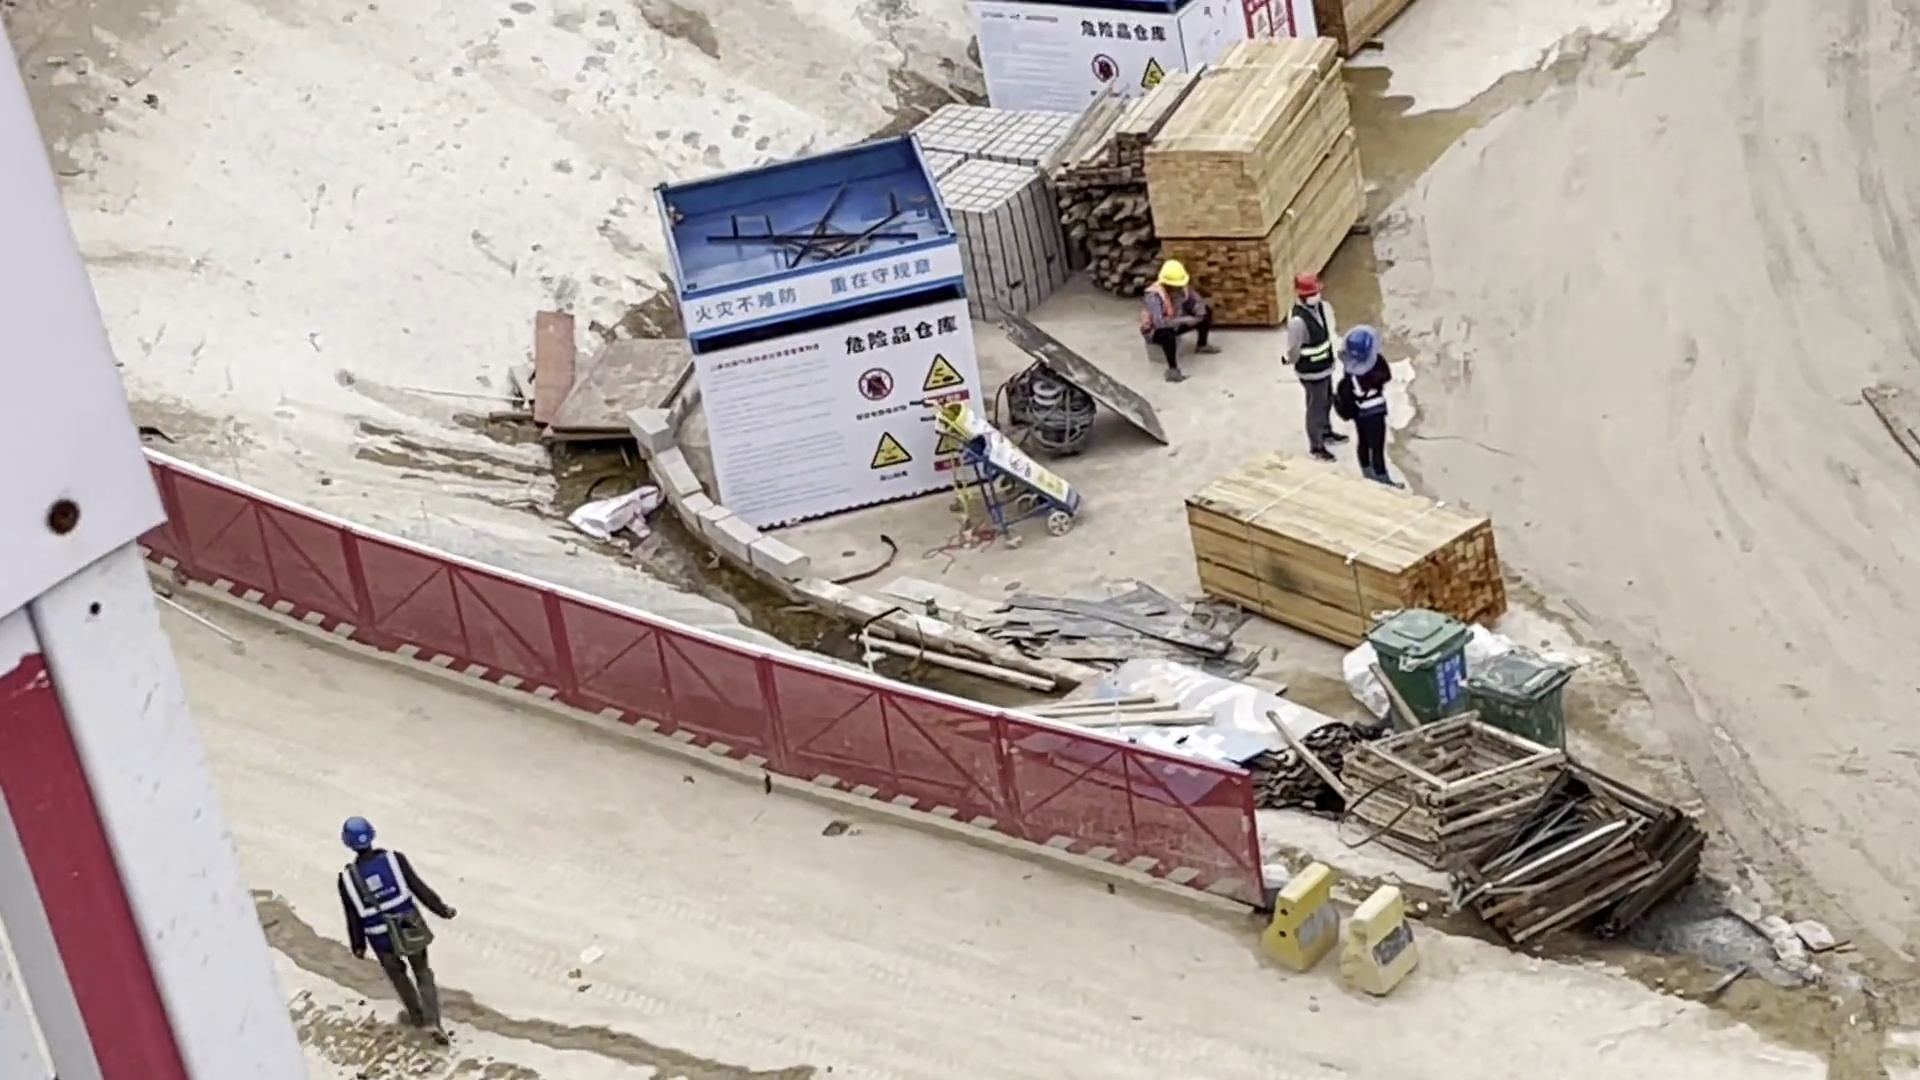fence: (122, 454, 1261, 902)
helmet: (1340, 319, 1385, 377), (332, 814, 384, 857), (1287, 263, 1329, 305), (1152, 254, 1193, 293)
person: (332, 818, 465, 1043), (1334, 318, 1410, 484), (1279, 265, 1338, 451), (1140, 258, 1215, 373)
slogan: (678, 253, 933, 329)
vest: (343, 861, 434, 947), (1336, 356, 1391, 428), (1291, 306, 1331, 380), (1146, 286, 1194, 330)
wood: (1053, 29, 1366, 338), (1182, 476, 1512, 641)
